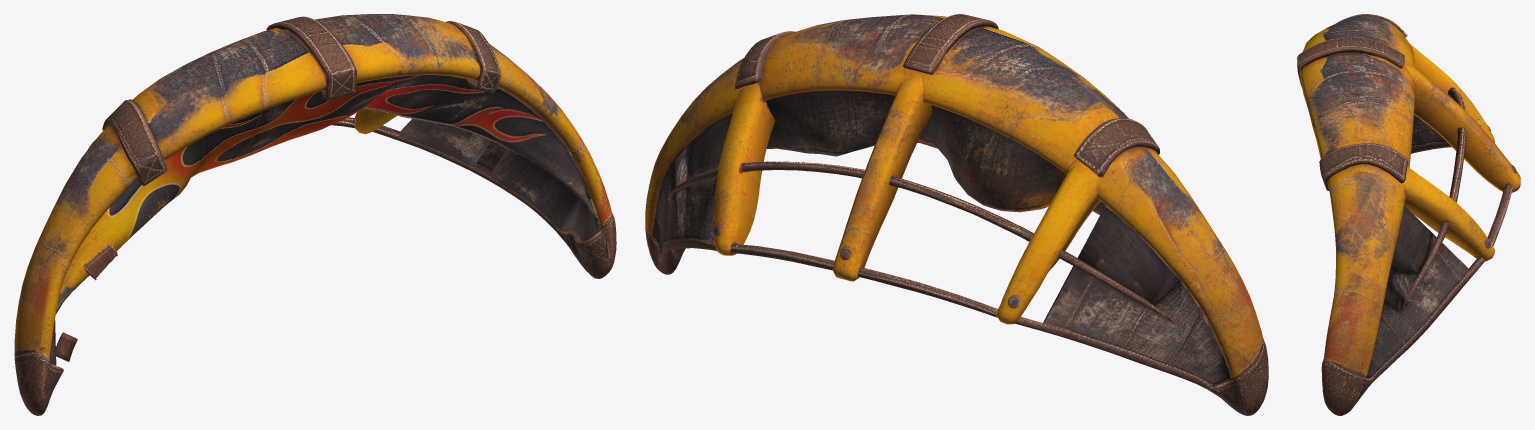
Rendered from canopy.glb.
3 renders of one model, left to right at view 1: azimuth 30°, elevation 25°; view 2: azimuth 150°, elevation 25°; view 3: azimuth 270°, elevation 25°, orthographic. The views are drawn at different scales.
Parts seen in each view (by area): view 1: tripo_node_45fc76fa-5454-40ad-88fe-0f82d4aec320; view 2: tripo_node_45fc76fa-5454-40ad-88fe-0f82d4aec320; view 3: tripo_node_45fc76fa-5454-40ad-88fe-0f82d4aec320.
Part boxes in pixels (x1,y1,x2,y2): tripo_node_45fc76fa-5454-40ad-88fe-0f82d4aec320: (14,14,616,415); tripo_node_45fc76fa-5454-40ad-88fe-0f82d4aec320: (645,14,1268,415); tripo_node_45fc76fa-5454-40ad-88fe-0f82d4aec320: (1297,14,1520,415).
Size of the model in its own units: 0.9995 by 0.5103 by 0.397.
1 material, 1 textured.
